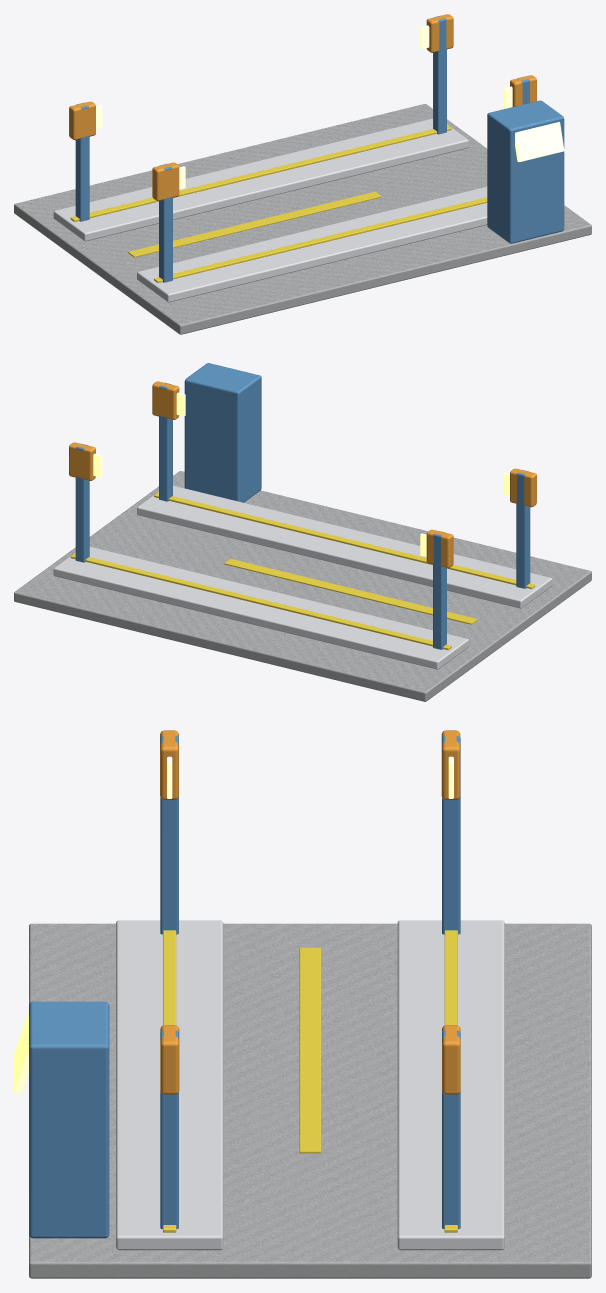
File: wheel-alignment-bay.glb
3 renders of one model, top to bottom at view 1: azimuth 30°, elevation 25°; view 2: azimuth 150°, elevation 25°; view 3: azimuth 270°, elevation 25°, orthographic. The views are drawn at different scales.
Parts seen in each view (by area): view 1: wheel-alignment-bay; view 2: wheel-alignment-bay; view 3: wheel-alignment-bay.
Part boxes in pixels (x1,y1,x2,y2): wheel-alignment-bay: [14, 14, 591, 334]; wheel-alignment-bay: [14, 363, 591, 701]; wheel-alignment-bay: [14, 730, 591, 1278].
Bounding box in the file's own units: 6 × 1.84 × 4.31.
6 materials, 1 textured.
